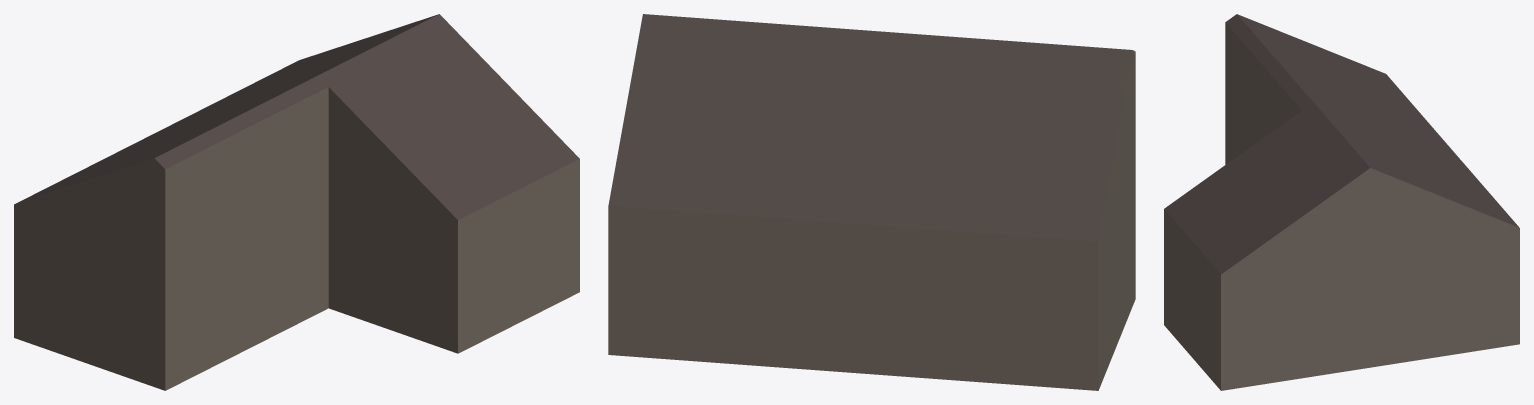
3 views of the same model, side by side, from view 1: azimuth 30°, elevation 25°; view 2: azimuth 150°, elevation 25°; view 3: azimuth 270°, elevation 25° (orthographic). The views are drawn at different scales.
Parts seen in each view (by area): view 1: HP-w859457323; view 2: HP-w859457323; view 3: HP-w859457323.
Part boxes in pixels (bbox=[...]): HP-w859457323: bbox=[14, 14, 579, 390]; HP-w859457323: bbox=[608, 14, 1135, 390]; HP-w859457323: bbox=[1164, 14, 1519, 390].
Size of the model in its own units: 22.18 by 10.3 by 16.62.
